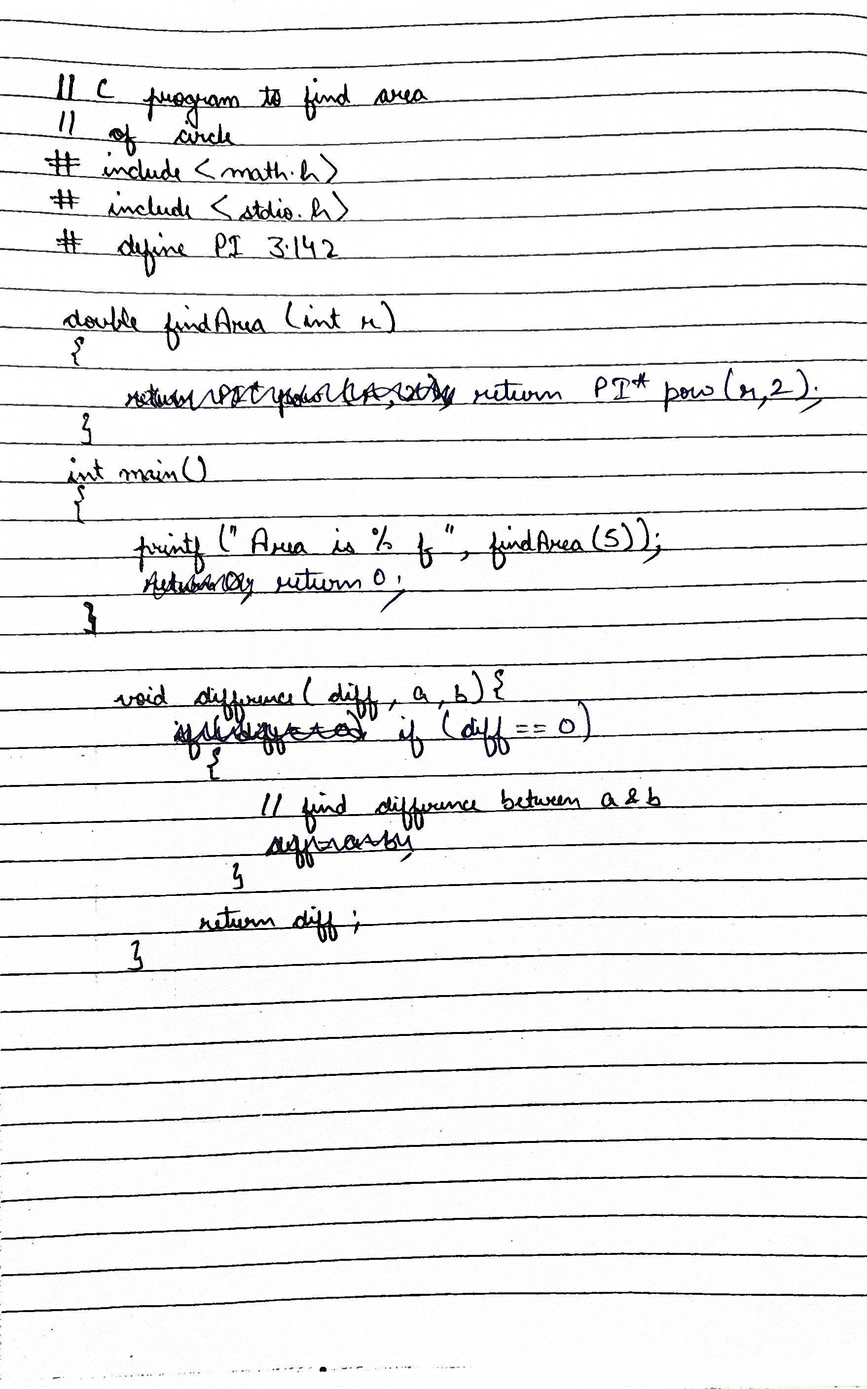cuttings: (125, 374, 460, 418), (168, 706, 367, 763), (263, 825, 417, 871), (140, 568, 256, 608)
